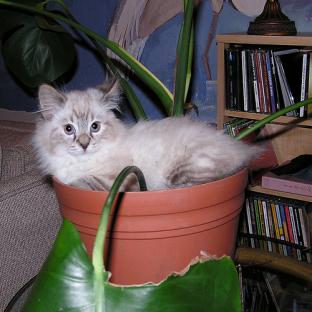Animal: (34, 80, 265, 190)
